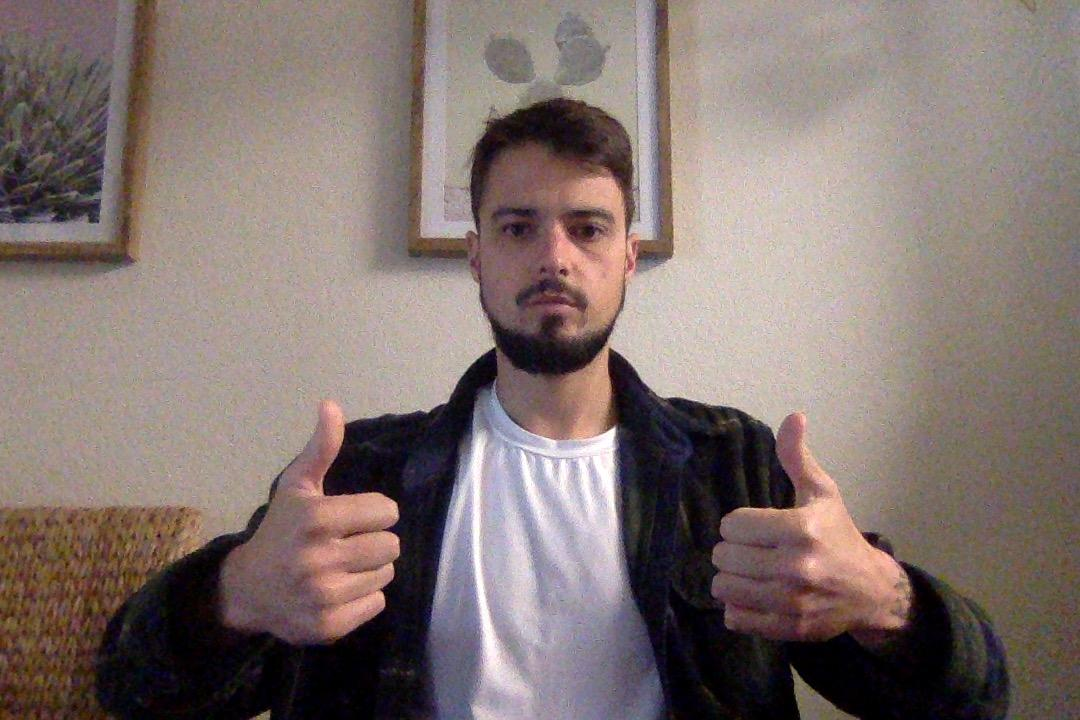Thumbs-Up: (193, 392, 408, 662), (693, 403, 904, 668)
